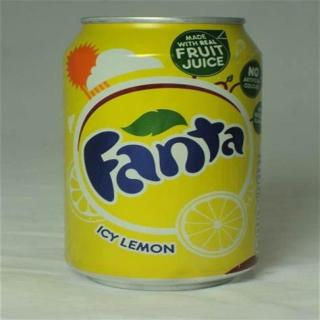Anorganik: (54, 8, 270, 298)
